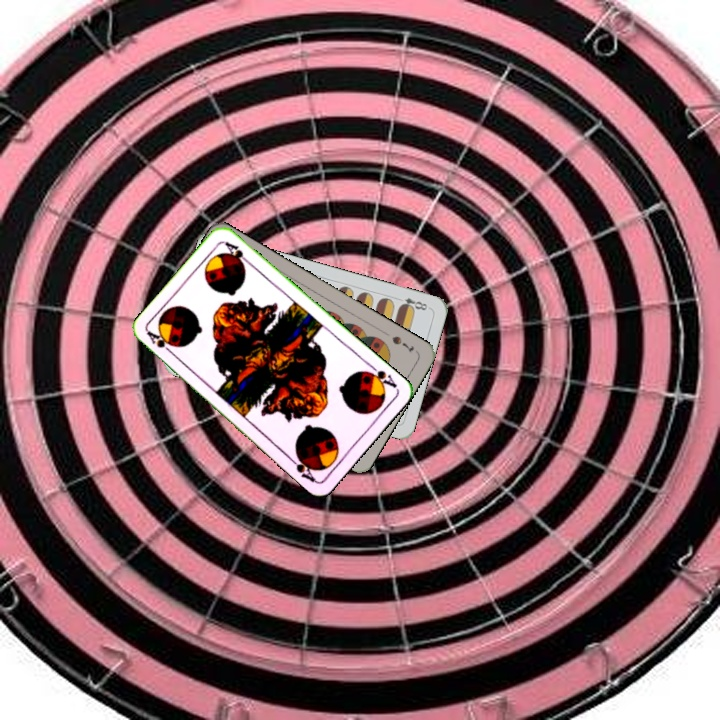E8: (393, 293, 432, 313)
S7: (388, 332, 417, 355)
SA: (361, 360, 400, 392), (143, 327, 178, 358)
